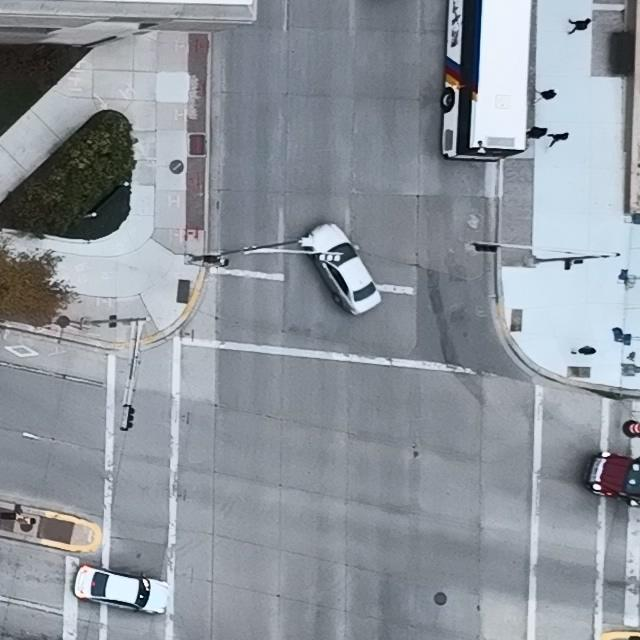car: (442, 0, 532, 160), (305, 222, 381, 317), (72, 565, 170, 615), (584, 451, 640, 509)
